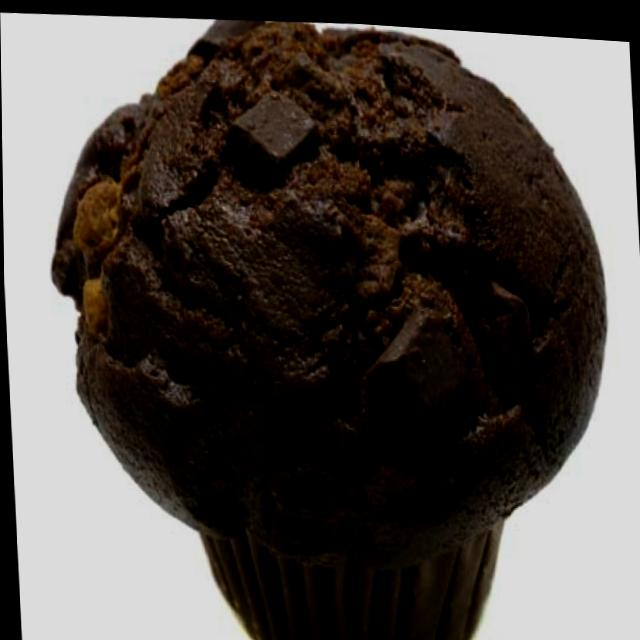炸货点心: (38, 2, 624, 640)
面包点心: (38, 2, 624, 640)
